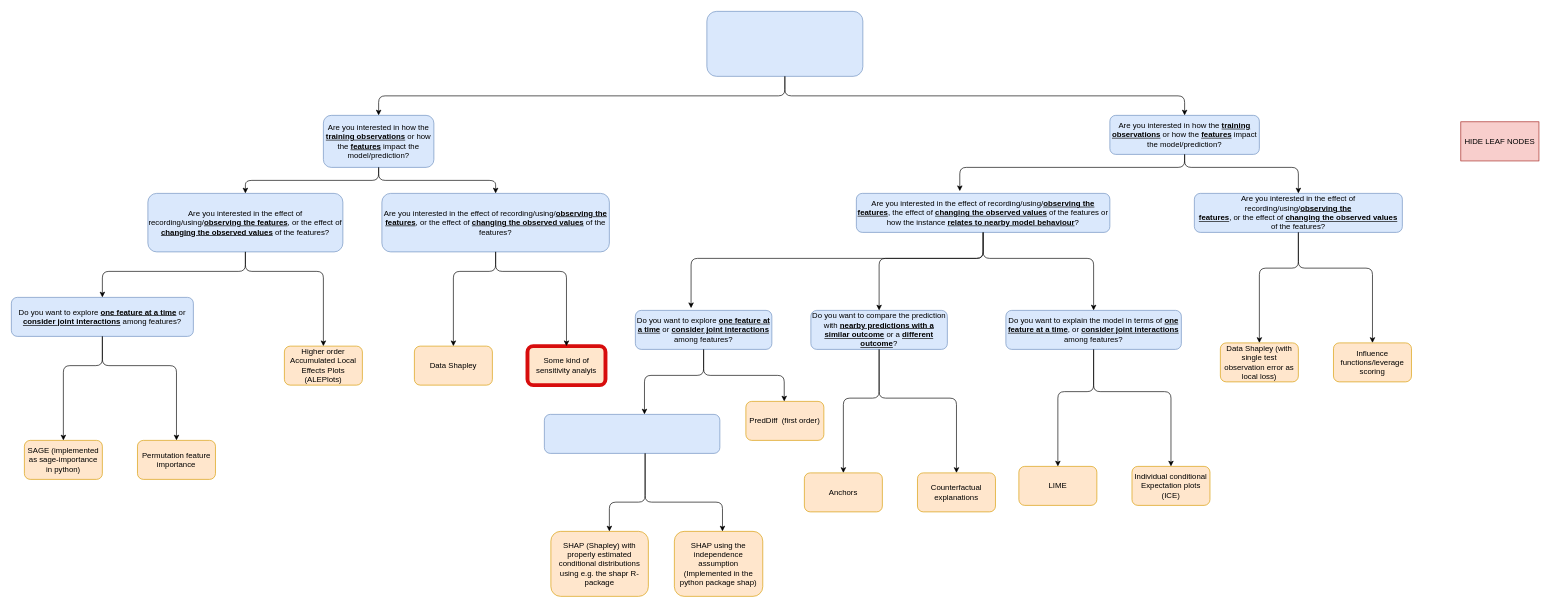
This 1550x608 diagram has some shape labels left out. Each missing label, with the centre of its shape:
Do you want to explain the whole model or specific predictions?: point (784, 43)
Do you want to obey or ignore the data distribution in the explanation? **: point (632, 433)
